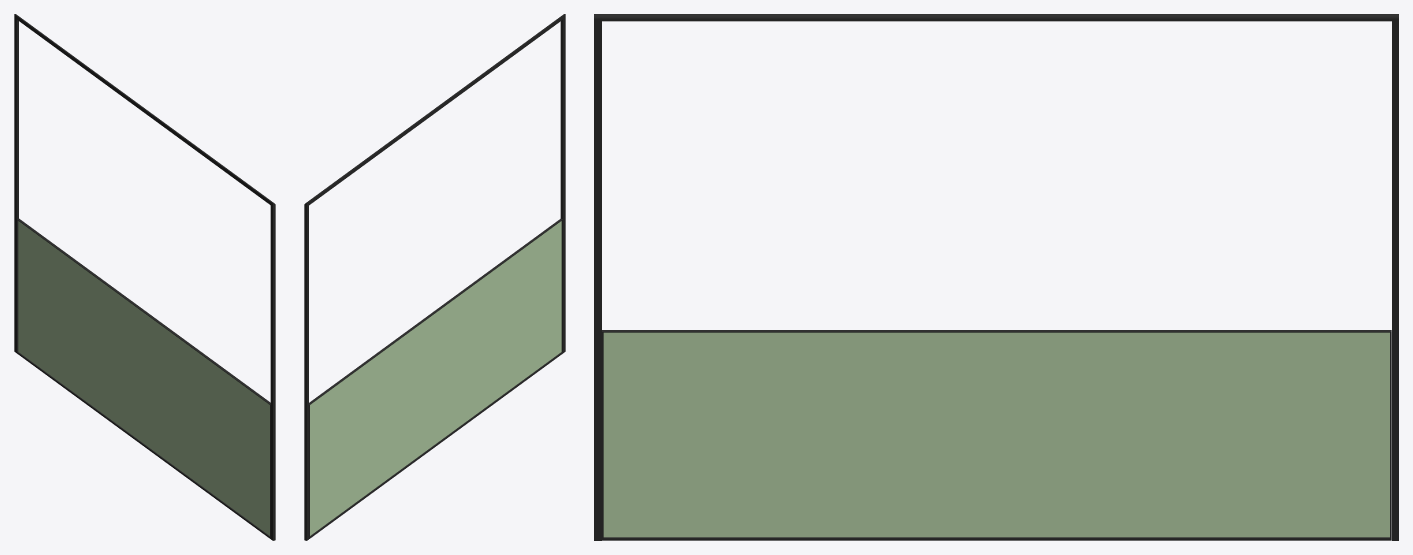
File: qudrix-webgl_q2_sides_automatic-sunscreen.glb
3 views of the same model, side by side, from view 1: azimuth 30°, elevation 25°; view 2: azimuth 150°, elevation 25°; view 3: azimuth 270°, elevation 25° (orthographic). The views are drawn at different scales.
Visible parts, largest first — view 1: sides_automatic-sunscreen-base, sides_automatic-sunscreen-frame; view 2: sides_automatic-sunscreen-base, sides_automatic-sunscreen-frame; view 3: sides_automatic-sunscreen-base, sides_automatic-sunscreen-frame.
Part boxes in pixels (left/top/right/bottom): sides_automatic-sunscreen-base: left=16, top=218, right=270, bottom=538; sides_automatic-sunscreen-frame: left=14, top=14, right=275, bottom=540; sides_automatic-sunscreen-base: left=309, top=218, right=563, bottom=538; sides_automatic-sunscreen-frame: left=304, top=14, right=565, bottom=540; sides_automatic-sunscreen-base: left=602, top=330, right=1391, bottom=540; sides_automatic-sunscreen-frame: left=594, top=14, right=1398, bottom=540.
Size of the model in its own units: 0.0217 by 2.64 by 3.66.
